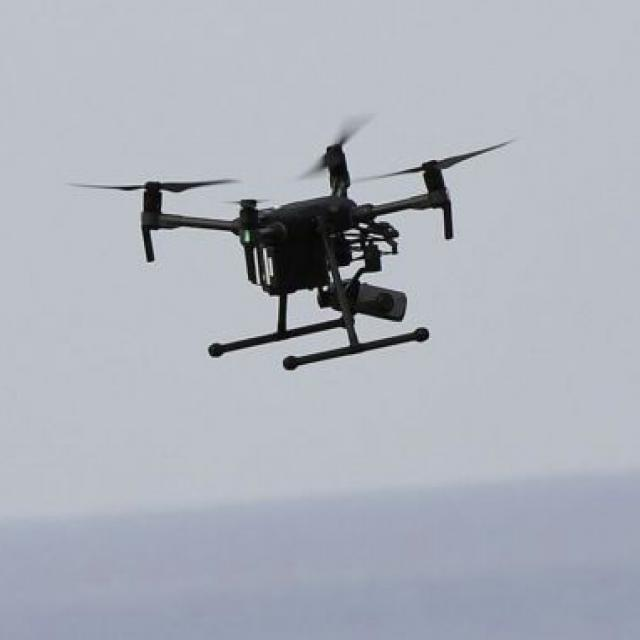drone: (86, 110, 515, 343)
